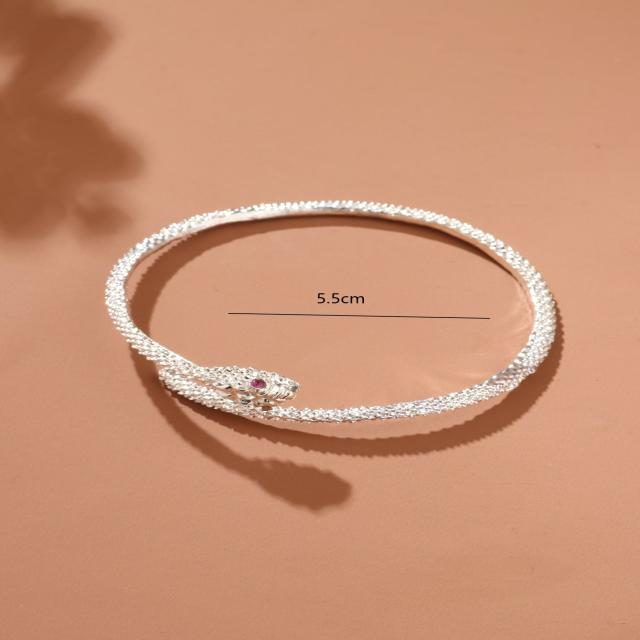bracelet: (67, 111, 640, 499)
